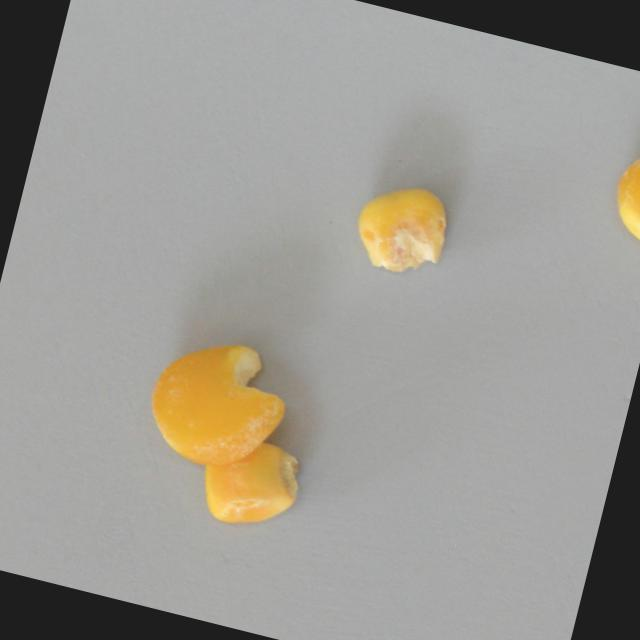dañado: (345, 171, 460, 284)
no_canjicado: (134, 316, 305, 480)
no_desgerminado: (186, 423, 312, 539), (597, 132, 640, 251)
